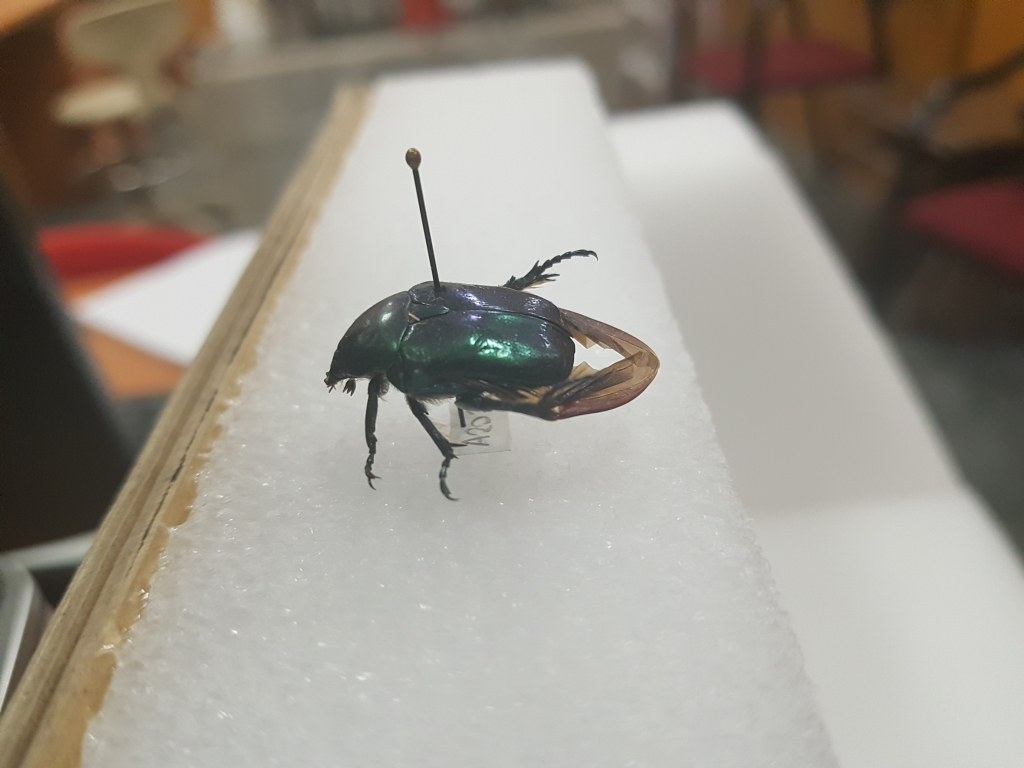Protaetia_angustata_angustata: (319, 243, 600, 506)
